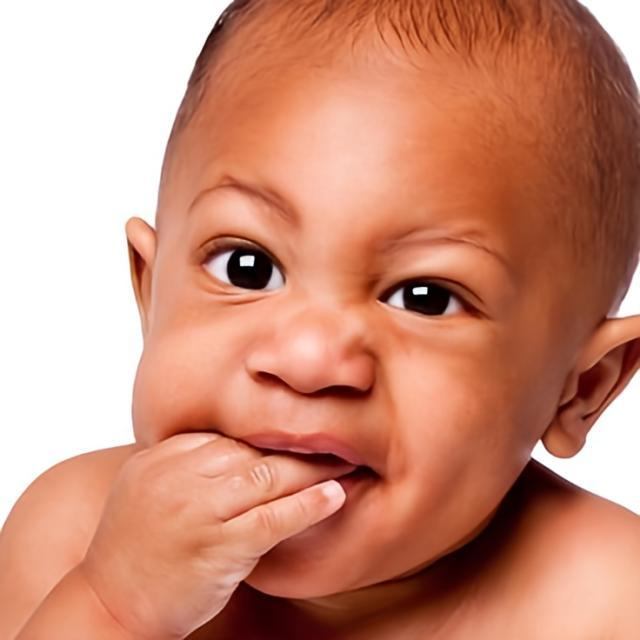surprise: (127, 0, 640, 601)
